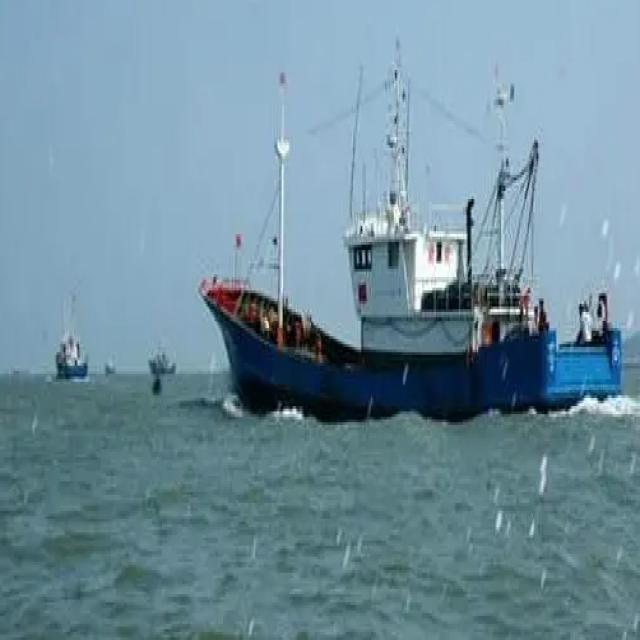fishing boat: (213, 60, 623, 420), (49, 308, 90, 378), (146, 333, 182, 381)
